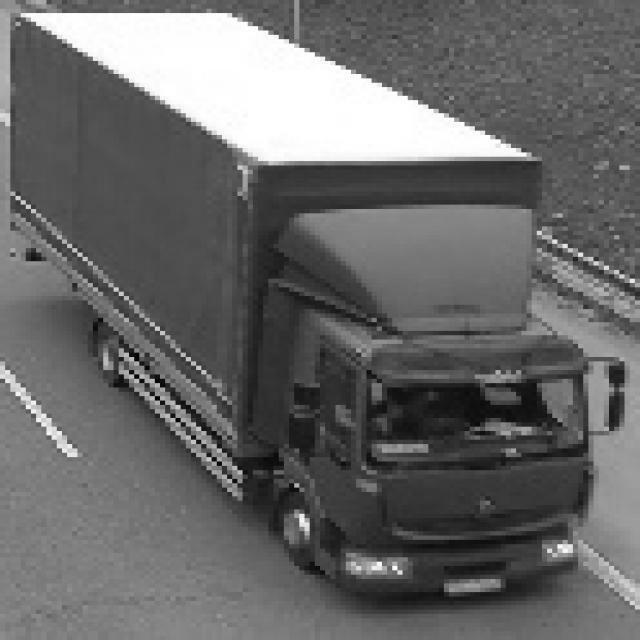truck: (224, 193, 640, 611)
